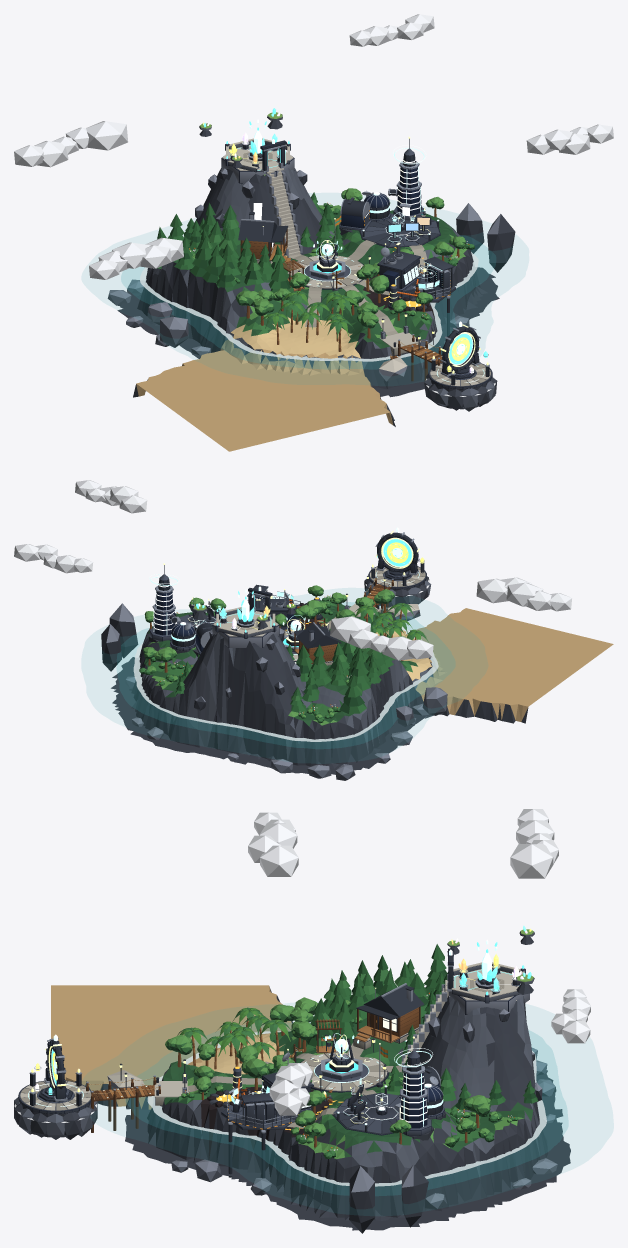
The model's file is island.glb.
3 renders of one model, top to bottom at view 1: azimuth 30°, elevation 25°; view 2: azimuth 150°, elevation 25°; view 3: azimuth 270°, elevation 25°, orthographic. The views are drawn at different scales.
Parts seen in each view (by area): view 1: SM_Island_Terrain, SM_Ocean_Shallows, SM_Outpost_Buildings, SM_Cloud_01, SM_Portal_Platform, SM_Cloud_04, SM_Crystal_Terrace, SM_Cloud_03, SM_Ocean_Foam, SM_BaseCamp_Cabin, SM_Mountain_Stairs, SM_Paths (+12 smaller); view 2: SM_Island_Terrain, SM_Ocean_Shallows, SM_Outpost_Buildings, SM_Cloud_01, SM_Cloud_04, SM_Crystal_Terrace, SM_Ocean_Foam, SM_Portal_Platform, SM_Cloud_03, SM_Cloud_02, SM_Portal_Ring, SM_BaseCamp_Cabin (+8 smaller); view 3: SM_Island_Terrain, SM_Ocean_Shallows, SM_Portal_Platform, SM_BaseCamp_Cabin, SM_Outpost_Buildings, SM_Cloud_01, SM_Cloud_04, SM_Crystal_Terrace, SM_Ocean_Foam, SM_Outpost_Plaza, SM_Cloud_03, SM_BaseCamp_Plaza (+12 smaller).
Part boxes in pixels (box(x1,y1,x2,y2)): SM_Island_Terrain: box(117, 168, 499, 451); SM_Ocean_Shallows: box(121, 235, 496, 369); SM_Outpost_Buildings: box(339, 136, 423, 230); SM_Cloud_01: box(14, 121, 128, 167); SM_Portal_Platform: box(424, 355, 497, 411); SM_Cloud_04: box(89, 237, 183, 279); SM_Crystal_Terrace: box(221, 138, 294, 183); SM_Cloud_03: box(526, 124, 613, 154); SM_Ocean_Foam: box(140, 252, 478, 361); SM_BaseCamp_Cabin: box(238, 212, 291, 270); SM_Mountain_Stairs: box(265, 161, 302, 257); SM_Paths: box(257, 240, 428, 335); SM_Island_Terrain: box(111, 600, 613, 775); SM_Ocean_Shallows: box(116, 602, 455, 749); SM_Outpost_Buildings: box(149, 563, 212, 654); SM_Cloud_01: box(330, 616, 433, 660); SM_Cloud_04: box(476, 577, 571, 611); SM_Crystal_Terrace: box(212, 586, 279, 647); SM_Ocean_Foam: box(133, 626, 438, 741); SM_Portal_Platform: box(364, 562, 431, 607); SM_Cloud_03: box(75, 480, 147, 513); SM_Cloud_02: box(14, 544, 93, 573); SM_Portal_Ring: box(375, 527, 419, 580); SM_BaseCamp_Cabin: box(294, 622, 341, 665); SM_Island_Terrain: box(51, 985, 570, 1230); SM_Ocean_Shallows: box(125, 1022, 568, 1196); SM_Portal_Platform: box(14, 1068, 97, 1139); SM_BaseCamp_Cabin: box(353, 983, 423, 1049); SM_Outpost_Buildings: box(394, 1036, 444, 1135); SM_Cloud_01: box(510, 809, 558, 878); SM_Cloud_04: box(248, 812, 298, 876); SM_Crystal_Terrace: box(444, 948, 529, 1014); SM_Ocean_Foam: box(147, 1031, 546, 1186); SM_Outpost_Plaza: box(332, 1085, 427, 1135); SM_Cloud_03: box(269, 1063, 312, 1115); SM_BaseCamp_Plaza: box(300, 1052, 389, 1092).
Size of what is drawn, in the model's own units: 71.65 by 25.3 by 59.82.
Materials: 22 (1 with a texture image).
